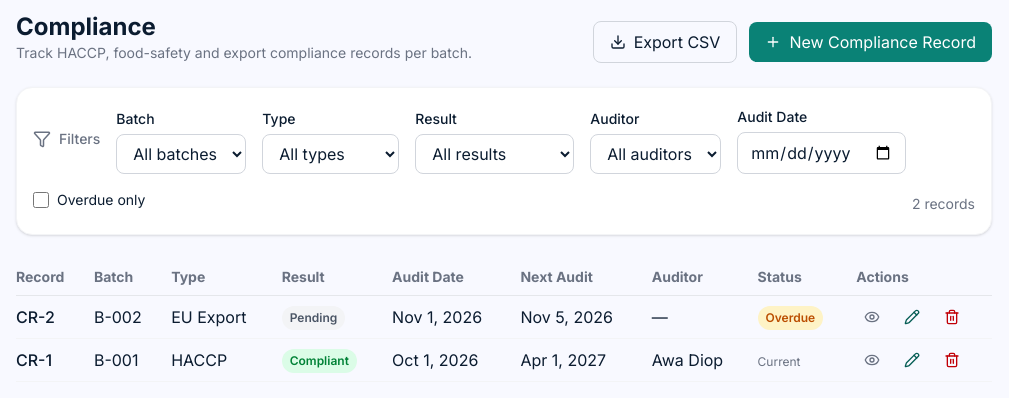
it: ComplianceRecordList › filters overdue records only
Expected: the text "CR-1" is shown, [16,338,94,382]
Click the checkbox labelled "Overdue only" at (41, 200), box [33,192,49,208]
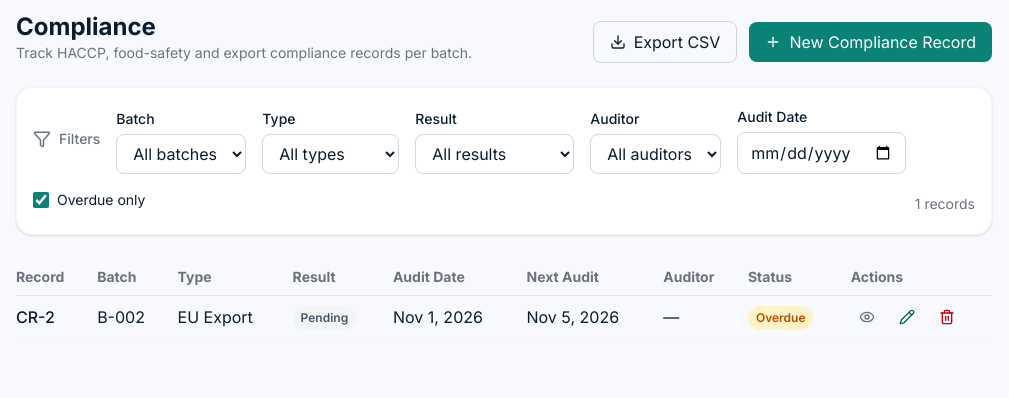
Expected: the text "CR-2" is shown, [16,296,97,338]
Expected: the text "CR-1" is gone
